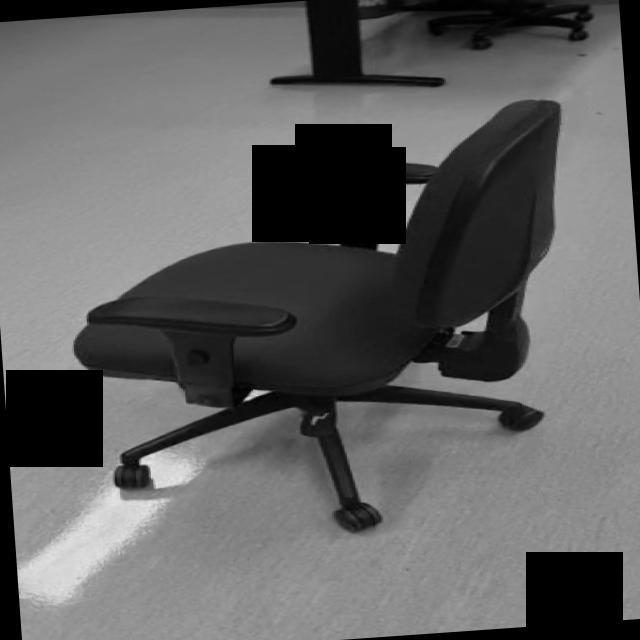chair: (57, 97, 588, 548)
